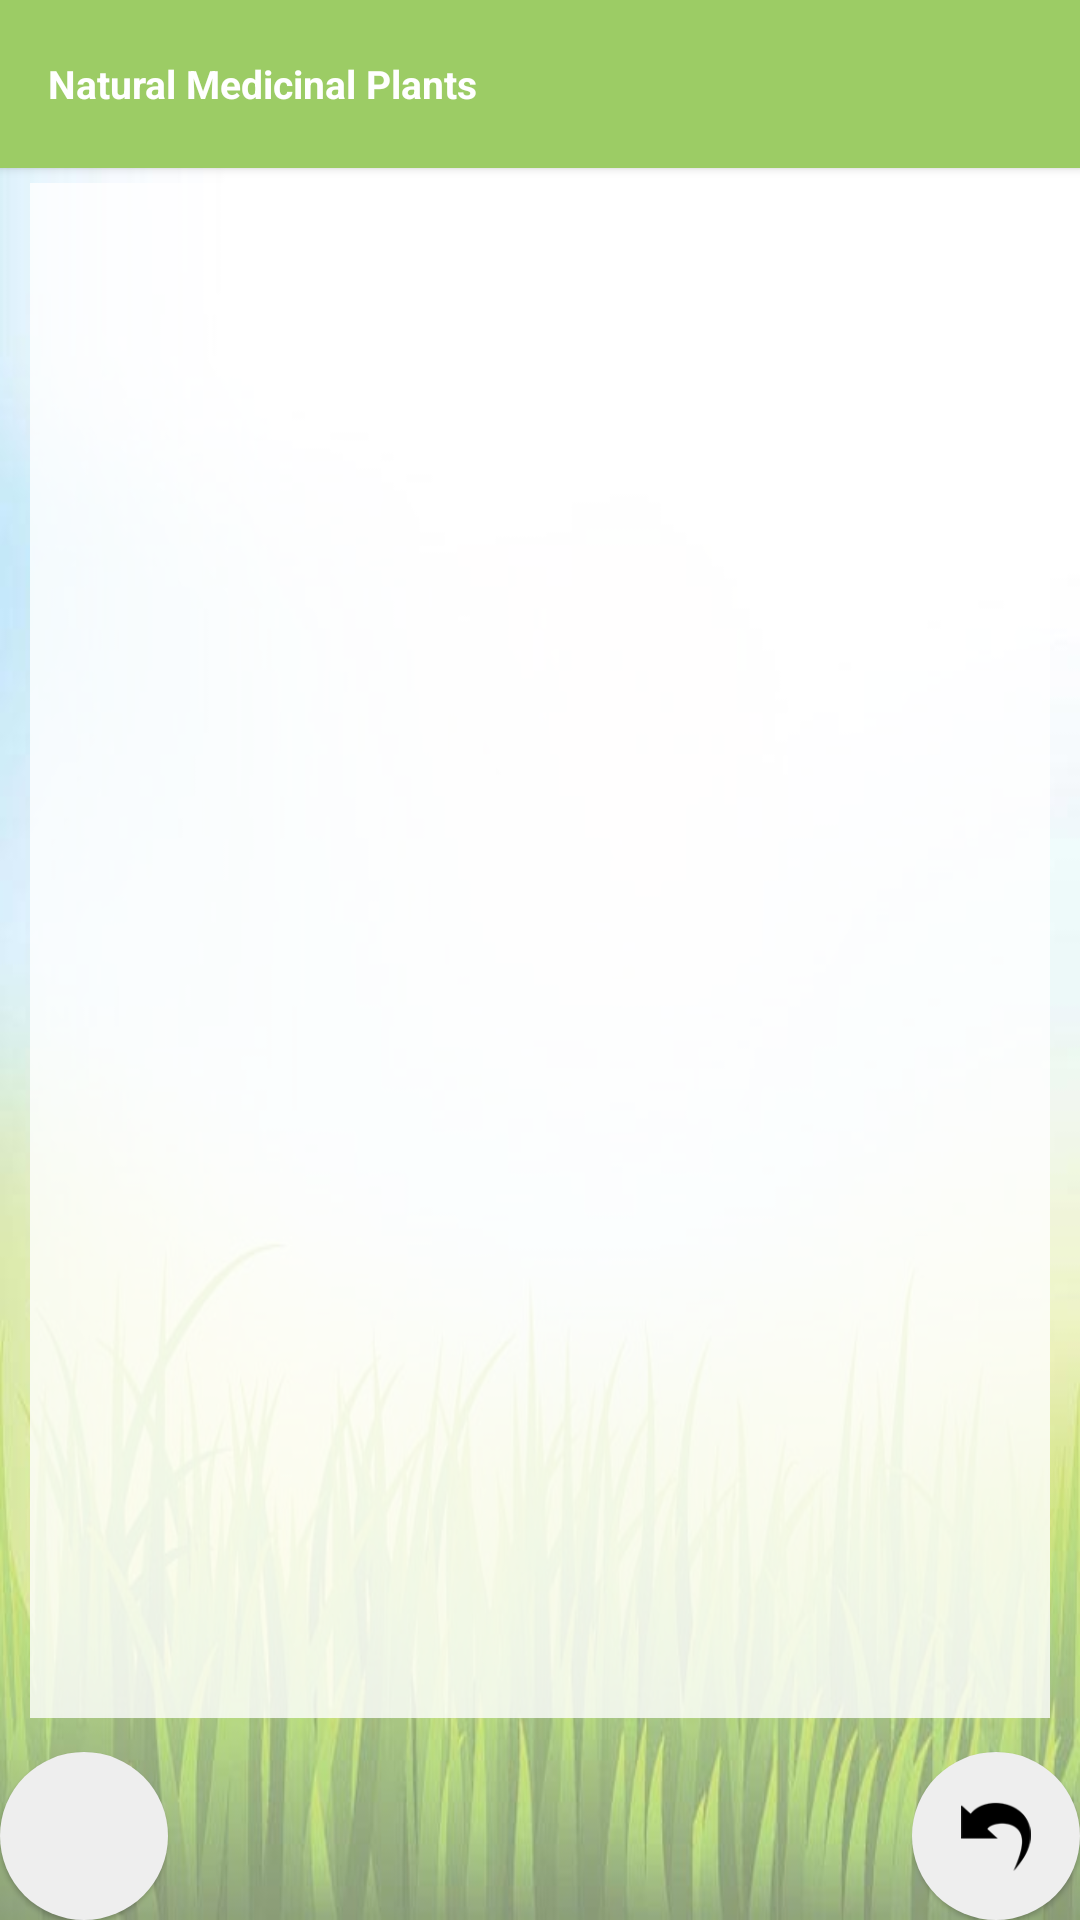

Screen size 1080 × 1920. Icon name, then its box in pixels as {"left": x1, "top": y1, "right": x2, "bottom": y2}:
page back arrow: {"left": 912, "top": 1752, "right": 1080, "bottom": 1920}
